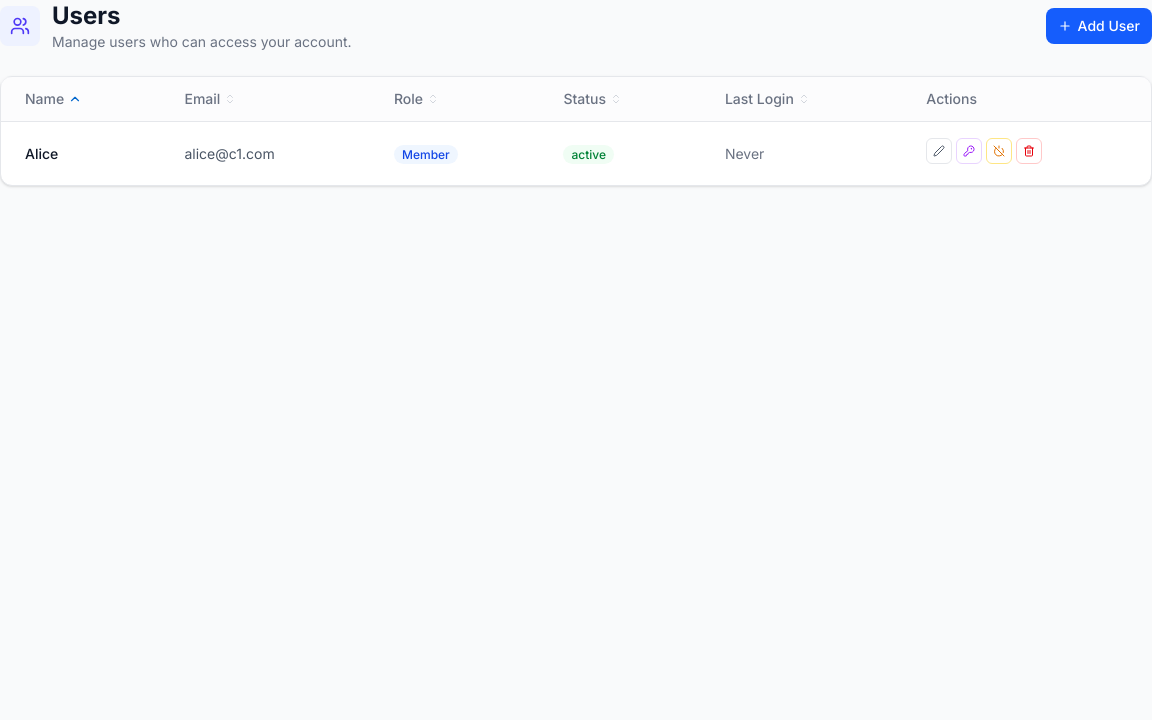
Scenario: SubUsers Page › as client_admin › reset password (Phase 4) › opens the reset password modal on button click
Click the button with test id "reset-password-u1": coordinates (969, 151) [956,138,982,164]
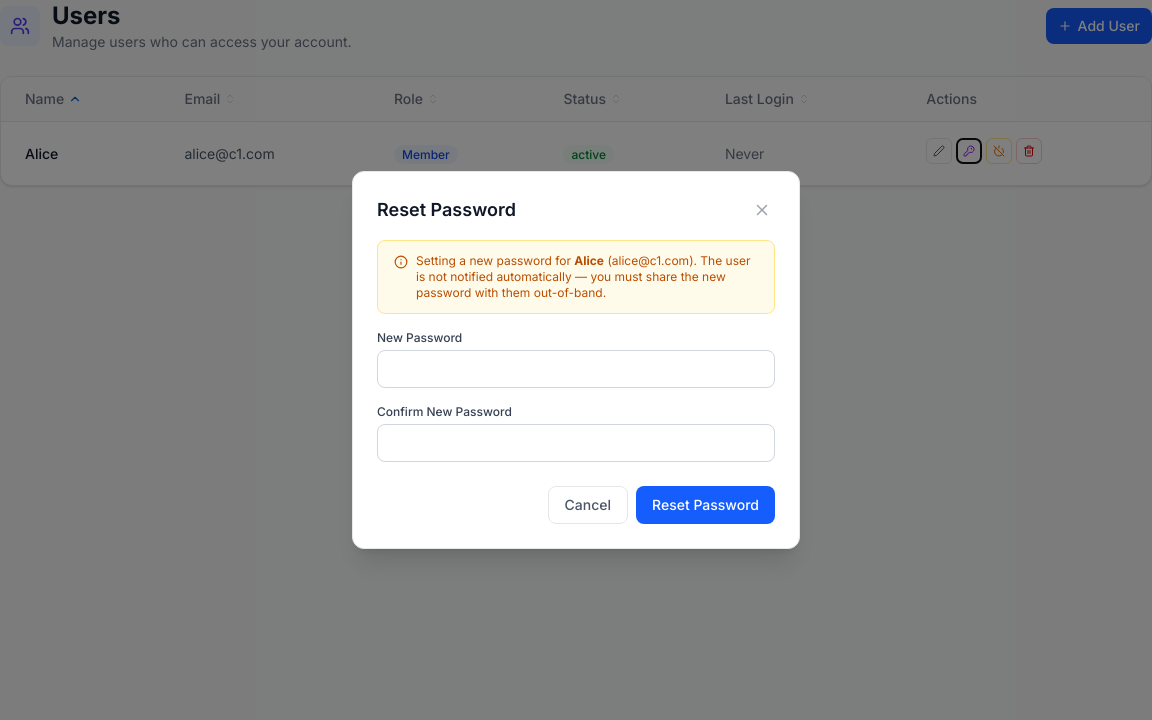
Expected: the element with test id "reset-password-modal" is shown
Expected: the password field with test id "reset-new-password-input" is shown, [377,350,775,388]
Expected: the password field with test id "reset-confirm-password-input" is shown, [377,424,775,462]
